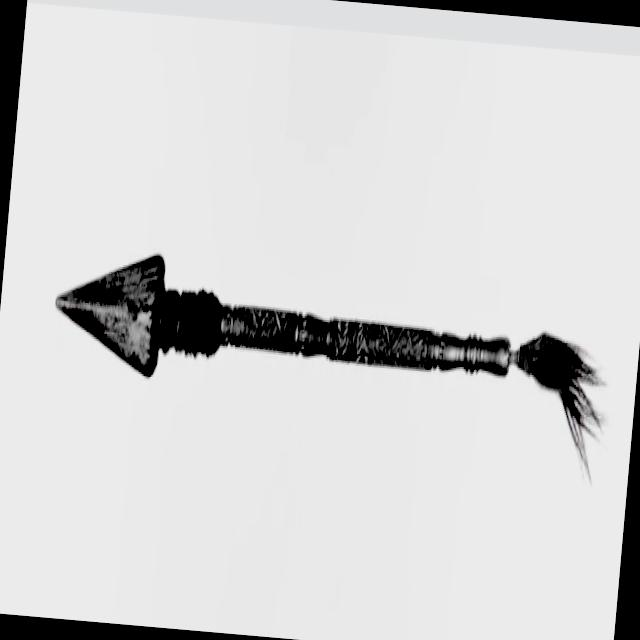spear: (35, 216, 618, 505)
